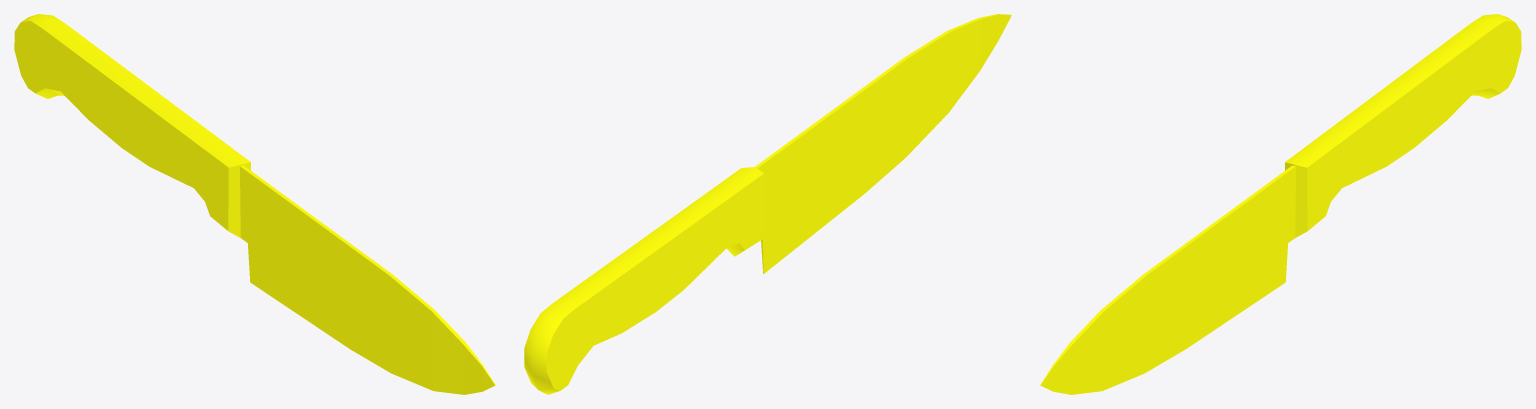
Rendered from melee_knife.glb.
3 renders of one model, left to right at view 1: azimuth 30°, elevation 25°; view 2: azimuth 150°, elevation 25°; view 3: azimuth 330°, elevation 25°, orthographic.
Visible parts, largest first — view 1: kitchenKnife; view 2: kitchenKnife; view 3: kitchenKnife.
Boxes of the visible parts, <box> form: kitchenKnife: <box>14,14,495,394</box>; kitchenKnife: <box>524,14,1011,394</box>; kitchenKnife: <box>1040,14,1521,394</box>.
Bounding box in the file's own units: 0.00688 × 0.0337 × 0.2524.
1 material, 1 textured.
